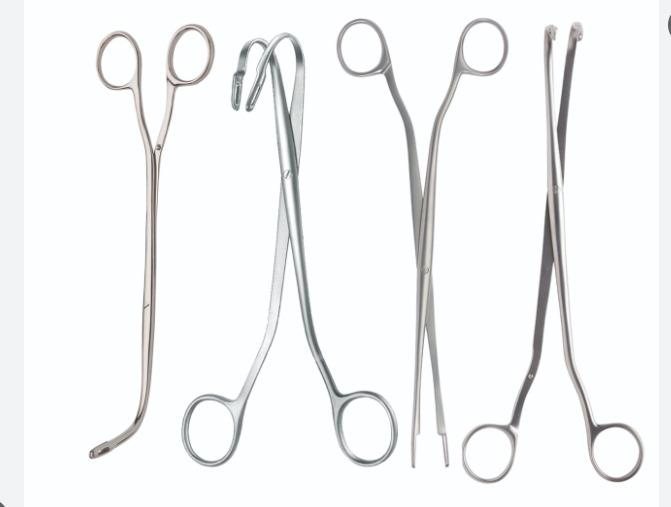Randall: (191, 22, 396, 480), (73, 18, 215, 461)
